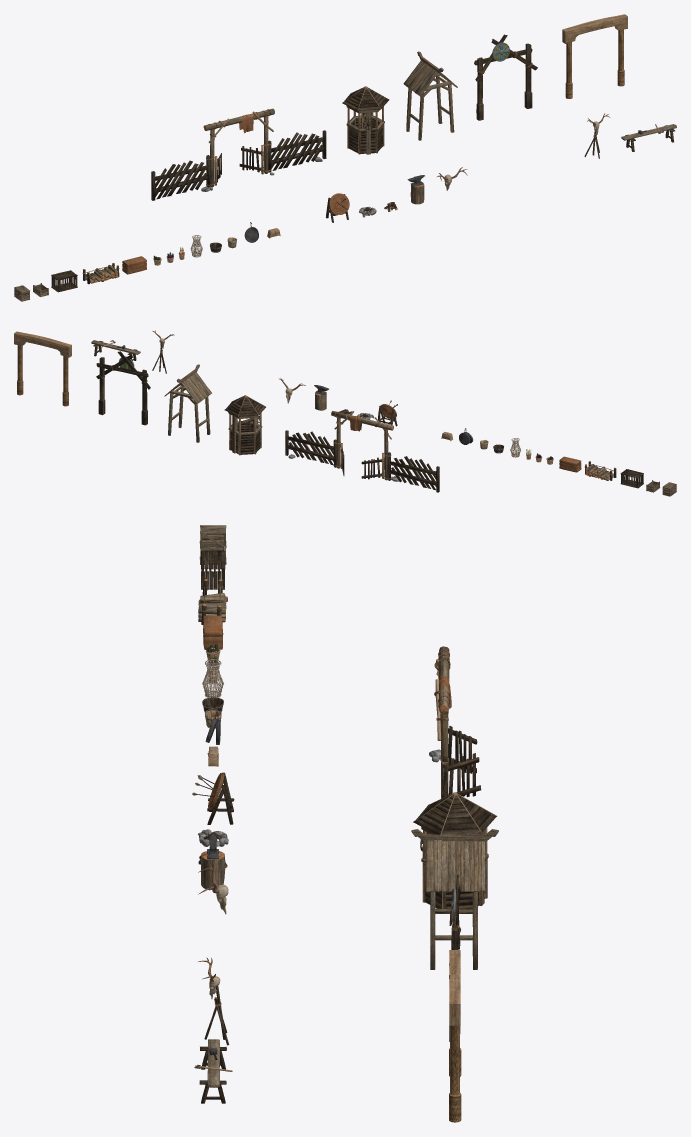
The model's file is hollowtale_diorama.glb.
3 renders of one model, top to bottom at view 1: azimuth 30°, elevation 25°; view 2: azimuth 150°, elevation 25°; view 3: azimuth 270°, elevation 25°, orthographic. The views are drawn at different scales.
Parts seen in each view (by area): view 1: KB3D_VAL_Gate_B_Main, KB3D_VAL_Well_A_Main, KB3D_VAL_Gate_E_Main, KB3D_VAL_Gate_C_Main, KB3D_VAL_Gate_D_Main, KB3D_VAL_Target_A_Main, KB3D_VAL_Firewood_A_Main, KB3D_VAL_Bench_B_Main, KB3D_VAL_Crate_F_Main; view 2: KB3D_VAL_Gate_B_Main, KB3D_VAL_Well_A_Main, KB3D_VAL_Gate_E_Main, KB3D_VAL_Gate_C_Main, KB3D_VAL_Gate_D_Main, KB3D_VAL_Firewood_A_Main, KB3D_VAL_Bench_B_Main, KB3D_VAL_Crate_F_Main, KB3D_VAL_Target_A_Main, KB3D_VAL_Anvil_A_Main, KB3D_VAL_Crate_H_Main; view 3: KB3D_VAL_Gate_E_Main, KB3D_VAL_Well_A_Main, KB3D_VAL_Gate_B_Main, KB3D_VAL_Gate_C_Main, KB3D_VAL_Bench_B_Main, KB3D_VAL_Anvil_A_Main, KB3D_VAL_Target_A_Main, KB3D_VAL_Crate_F_Main.
Part boxes in pixels (x1,y1,x2,y2): KB3D_VAL_Gate_B_Main: [151, 108, 326, 200]; KB3D_VAL_Well_A_Main: [342, 86, 389, 154]; KB3D_VAL_Gate_E_Main: [403, 51, 457, 140]; KB3D_VAL_Gate_C_Main: [562, 14, 627, 98]; KB3D_VAL_Gate_D_Main: [474, 34, 537, 120]; KB3D_VAL_Target_A_Main: [325, 193, 349, 222]; KB3D_VAL_Firewood_A_Main: [82, 263, 119, 284]; KB3D_VAL_Bench_B_Main: [621, 124, 676, 151]; KB3D_VAL_Crate_F_Main: [51, 270, 77, 292]; KB3D_VAL_Gate_B_Main: [285, 411, 439, 492]; KB3D_VAL_Well_A_Main: [224, 395, 265, 455]; KB3D_VAL_Gate_E_Main: [164, 364, 211, 442]; KB3D_VAL_Gate_C_Main: [14, 331, 71, 406]; KB3D_VAL_Gate_D_Main: [96, 351, 150, 425]; KB3D_VAL_Firewood_A_Main: [584, 461, 616, 480]; KB3D_VAL_Bench_B_Main: [91, 340, 140, 360]; KB3D_VAL_Crate_F_Main: [620, 469, 643, 488]; KB3D_VAL_Target_A_Main: [378, 400, 397, 426]; KB3D_VAL_Anvil_A_Main: [314, 385, 328, 410]; KB3D_VAL_Crate_H_Main: [559, 456, 581, 472]; KB3D_VAL_Gate_E_Main: [411, 829, 498, 969]; KB3D_VAL_Well_A_Main: [413, 792, 497, 908]; KB3D_VAL_Gate_B_Main: [429, 646, 481, 798]; KB3D_VAL_Gate_C_Main: [449, 950, 461, 1122]; KB3D_VAL_Bench_B_Main: [194, 1039, 232, 1103]; KB3D_VAL_Anvil_A_Main: [201, 834, 225, 889]; KB3D_VAL_Target_A_Main: [192, 772, 234, 824]; KB3D_VAL_Crate_F_Main: [201, 551, 225, 589].
Bounding box in the file's own units: 35 × 3.83 × 7.78.
18 materials, 18 textured.
